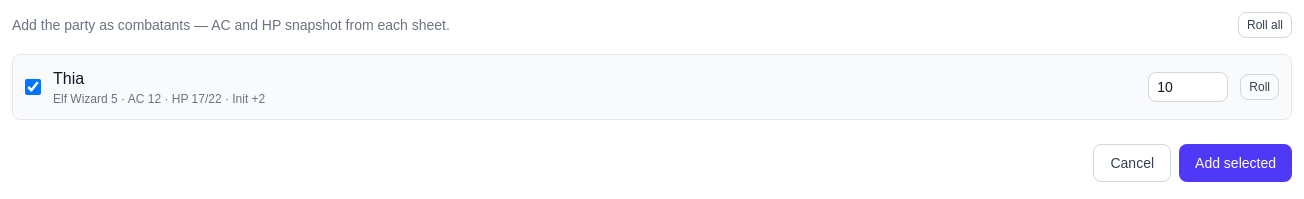
Scenario: AddPartyDialog › disables confirm when nothing is selected
Expected: the button "Add selected" is enabled, [1179,144,1292,182]
Click the checkbox named "add thia" at [33, 87], box [25,79,41,95]
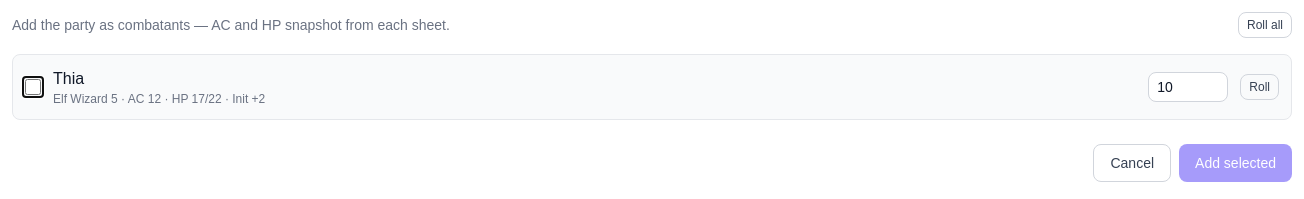
Result: the button "Add selected" is disabled at [1179,144,1292,182]
